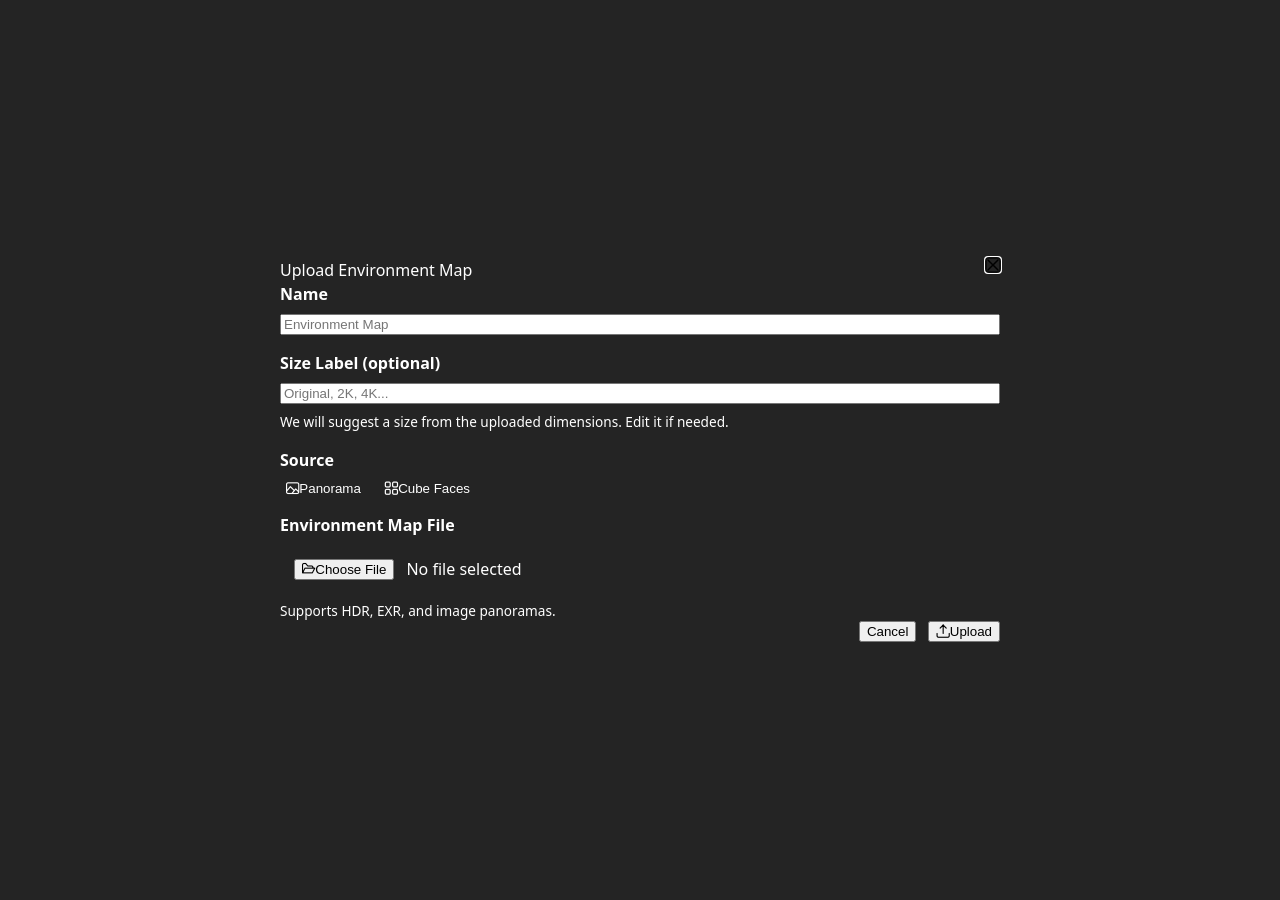
EnvironmentMapUploadDialog › shows validation error for empty name in create mode on submit
The image size is (1280, 900).
Note: The name field starts empty - click upload to trigger validation
Click the button "Upload": (964, 632) top-left (928, 621), bottom-right (1000, 642)
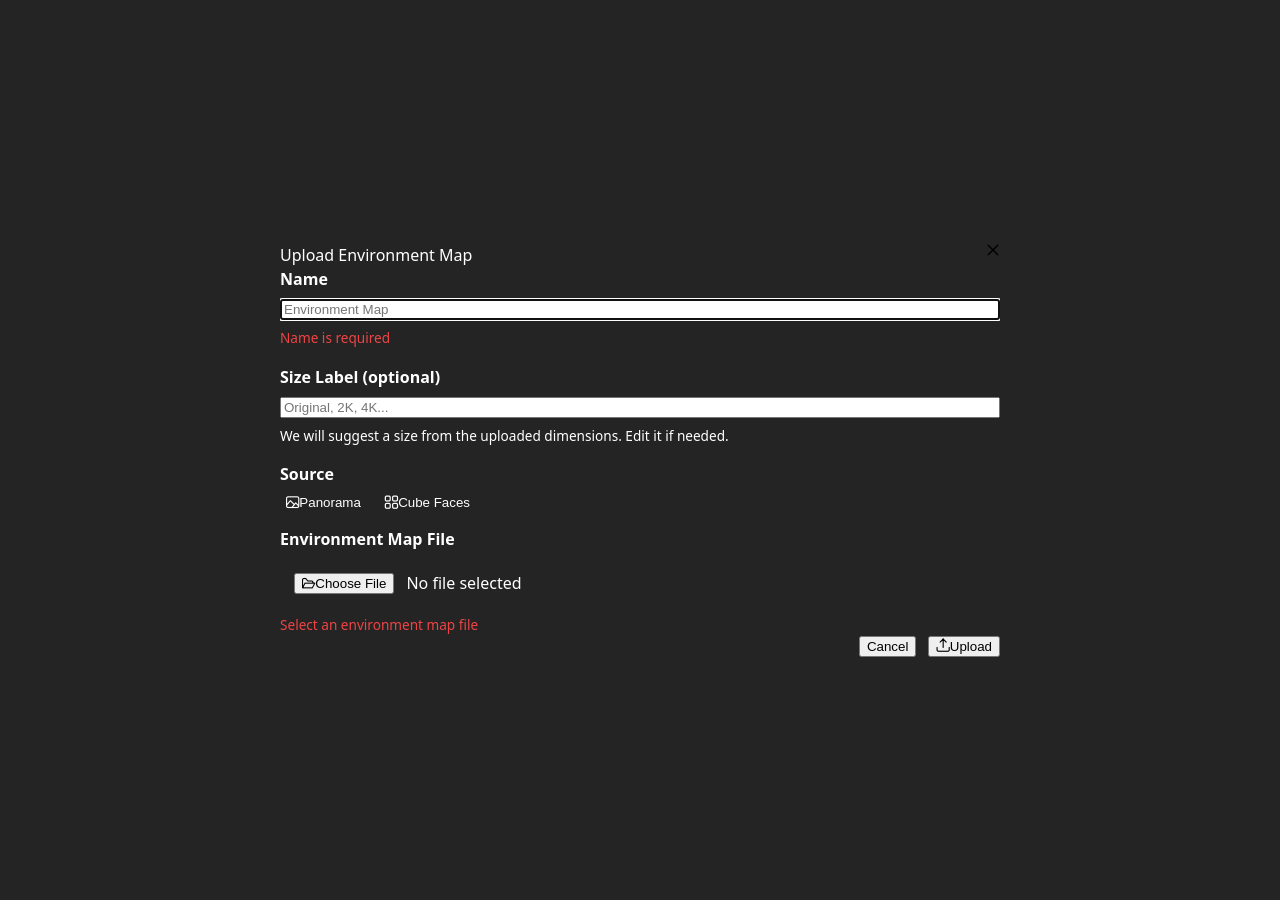
expect the text "Name is required" is shown: met, box top-left (280, 328), bottom-right (390, 347)
